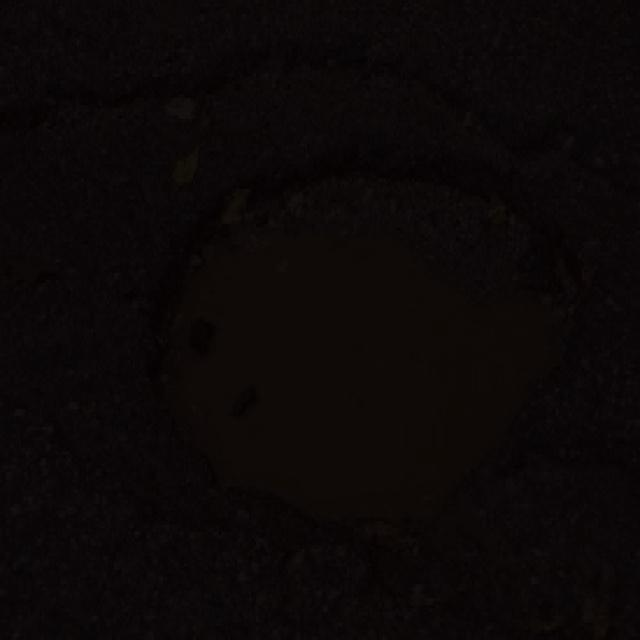Pothole: (155, 152, 594, 566)
